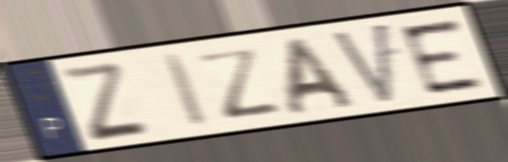A: (284, 34, 360, 119)
E: (394, 15, 490, 99)
I: (159, 49, 213, 131)
V: (327, 18, 397, 109)
Z: (55, 59, 153, 144), (194, 44, 286, 122)
